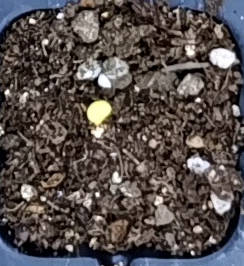chilli seed: (85, 99, 112, 126)
